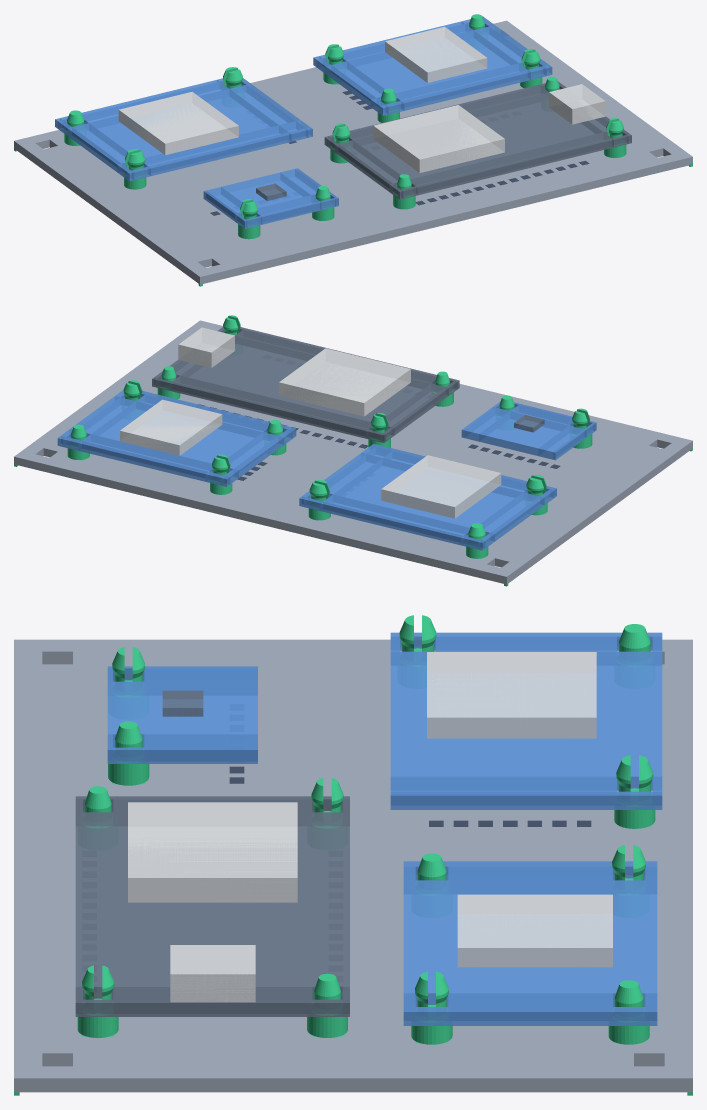
The model's file is simulacion_placa_con_4_componentes.glb.
3 views of the same model, one above another, from view 1: azimuth 30°, elevation 25°; view 2: azimuth 150°, elevation 25°; view 3: azimuth 270°, elevation 25° (orthographic). The views are drawn at different scales.
Parts seen in each view (by area): view 1: Baquelita_PETG_Gris, Modulos_PCB_Azul_Translucido, Blindajes_RF_Plata, Modulo_ESP32_Translucido, Soportes_Ganchos_Y_Palitos_Verde, Huecos_49_Pines; view 2: Baquelita_PETG_Gris, Modulos_PCB_Azul_Translucido, Blindajes_RF_Plata, Modulo_ESP32_Translucido, Soportes_Ganchos_Y_Palitos_Verde, Huecos_49_Pines; view 3: Baquelita_PETG_Gris, Modulos_PCB_Azul_Translucido, Blindajes_RF_Plata, Modulo_ESP32_Translucido, Soportes_Ganchos_Y_Palitos_Verde, Huecos_49_Pines.
Boxes of the visible parts, x1,y1,x2,y2 form: Baquelita_PETG_Gris: (14, 20, 692, 284); Modulos_PCB_Azul_Translucido: (55, 16, 552, 228); Blindajes_RF_Plata: (118, 26, 605, 172); Modulo_ESP32_Translucido: (256, 81, 631, 200); Soportes_Ganchos_Y_Palitos_Verde: (14, 14, 692, 286); Huecos_49_Pines: (210, 91, 589, 215); Baquelita_PETG_Gris: (14, 320, 692, 584); Modulos_PCB_Azul_Translucido: (57, 390, 596, 550); Blindajes_RF_Plata: (120, 327, 501, 518); Modulo_ESP32_Translucido: (152, 327, 544, 442); Soportes_Ganchos_Y_Palitos_Verde: (14, 315, 692, 586); Huecos_49_Pines: (198, 404, 560, 480); Baquelita_PETG_Gris: (14, 639, 692, 1092); Modulos_PCB_Azul_Translucido: (107, 632, 662, 1025); Blindajes_RF_Plata: (128, 652, 612, 1002); Modulo_ESP32_Translucido: (75, 690, 349, 1016); Soportes_Ganchos_Y_Palitos_Verde: (14, 615, 692, 1095); Huecos_49_Pines: (229, 766, 591, 826).
Bounding box in the file's own units: 107 × 11.1 × 70.
